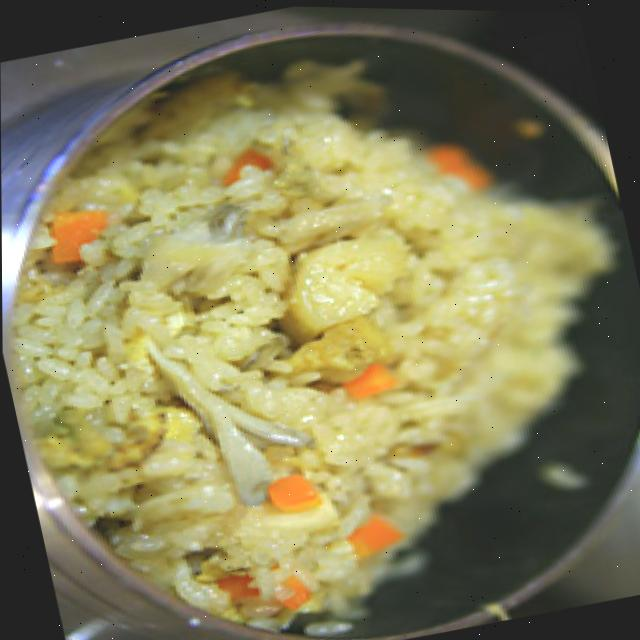米饭主食: (0, 19, 640, 640)
